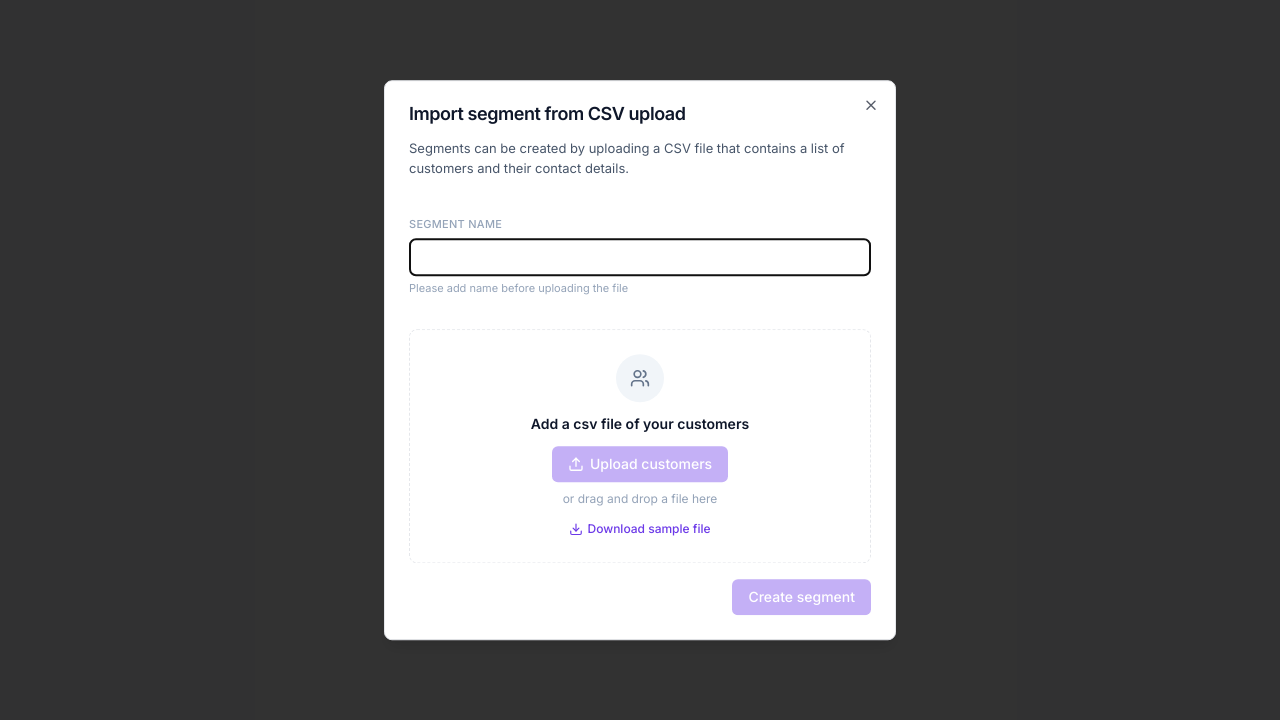
Test case: ImportSegmentCsvModal › Create segment button stays disabled until both name and file are set
Later steps or results of the test are not shown.
Expected: the button with test id "import-csv-create-btn" is disabled, [732,579,871,615]
In the field with test id "import-csv-name-input": (640, 257) [409,238,871,276], type "My CSV segment"
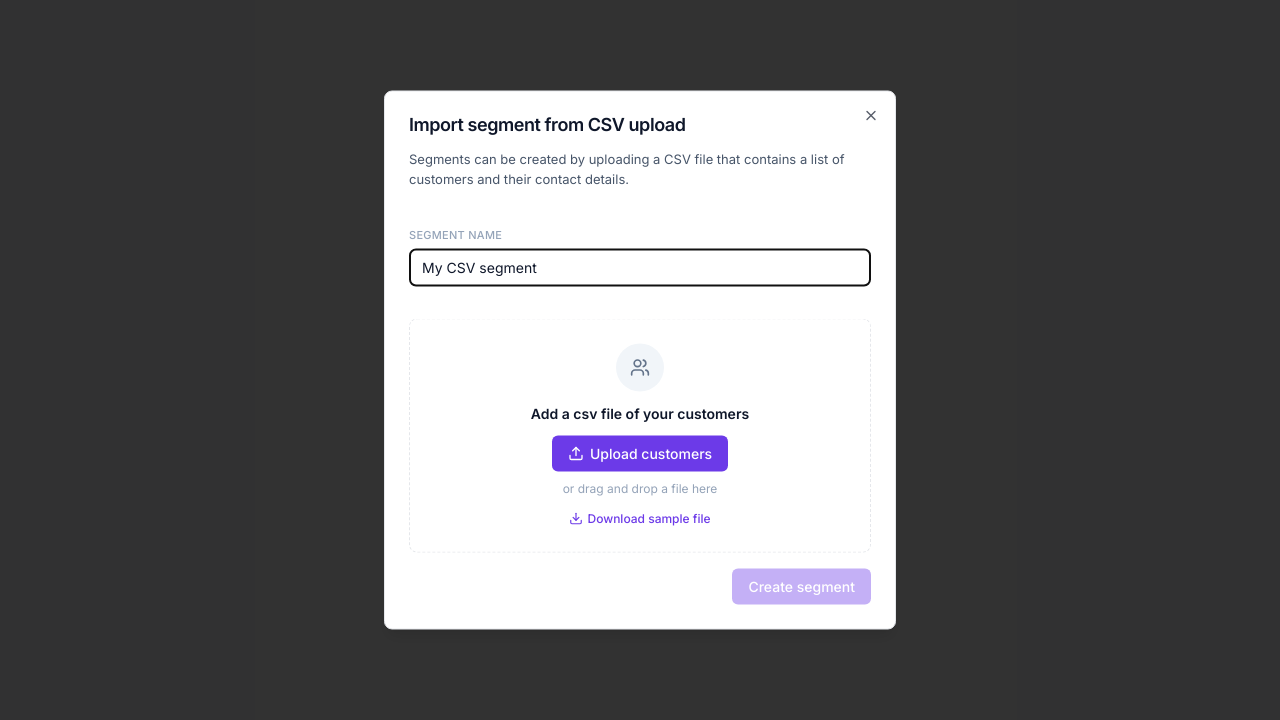
Expected: the button with test id "import-csv-create-btn" is disabled, [732,568,871,604]
Expected: the button with test id "import-csv-upload-btn" is enabled, [552,436,728,472]
